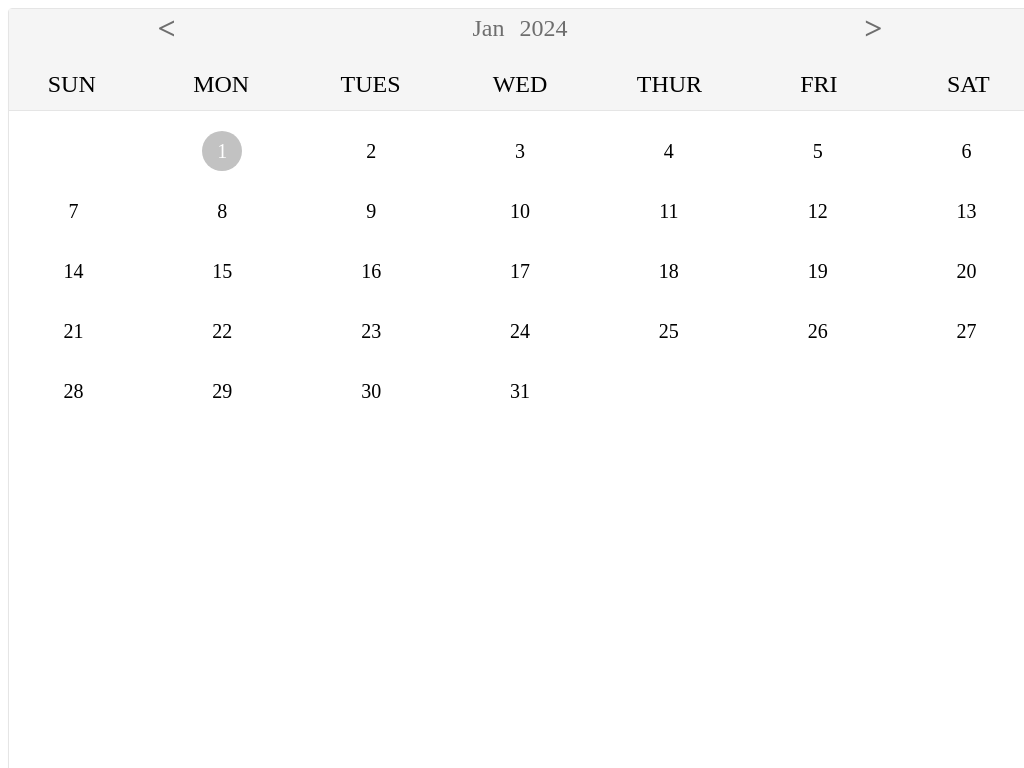
Calendar Component › goes forward a month when clicking on right arrow
This screenshot has width=1024, height=768.
Expected: the text "Jan" is shown, [472,15,504,41]
Note: Click on the right arrow to change the month
Step 1. Click the text ">" → (873, 28), box [864,10,882,47]
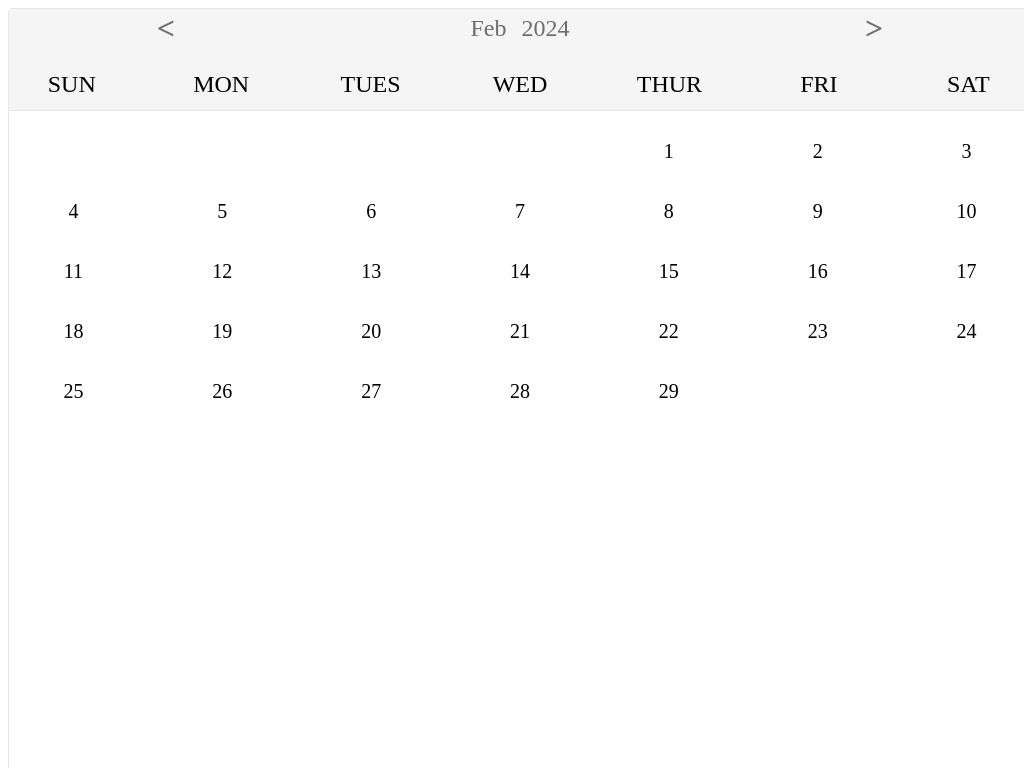
Expected: the text "Feb" is shown, [470,15,506,41]
